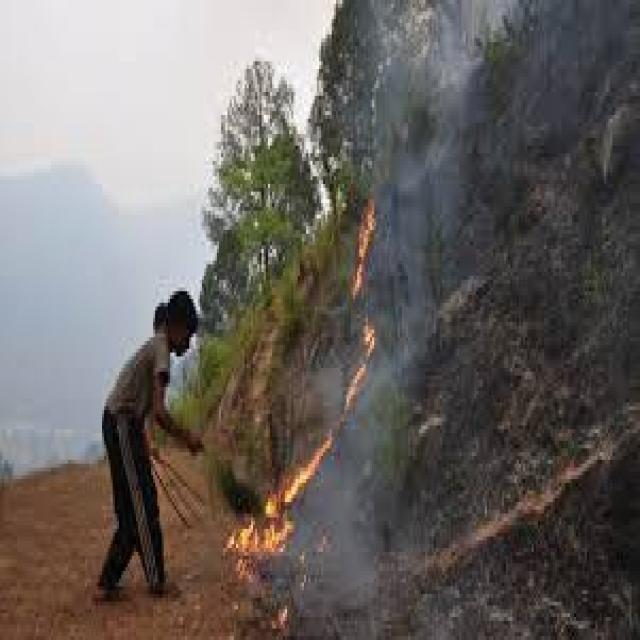Fire: (236, 493, 295, 553), (346, 322, 375, 404), (354, 200, 376, 305), (298, 436, 329, 489)
Smoke: (380, 26, 462, 354), (343, 428, 368, 576), (302, 517, 332, 623)
